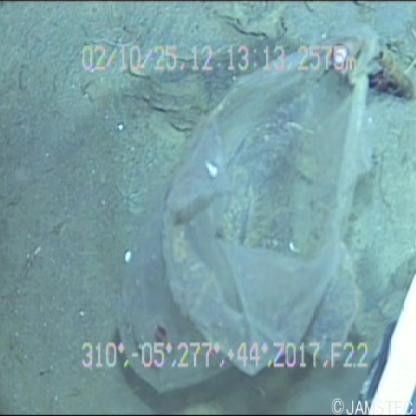Rác: (110, 13, 381, 398)
